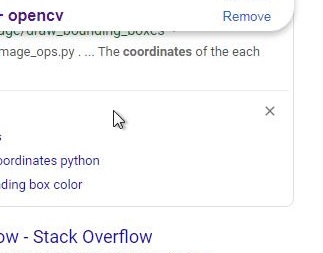cursor: (111, 108, 126, 129)
